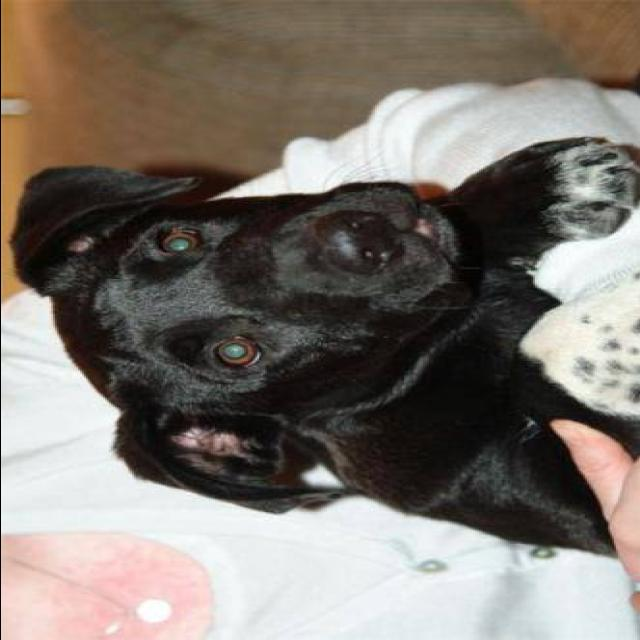dog: (4, 132, 640, 560)
